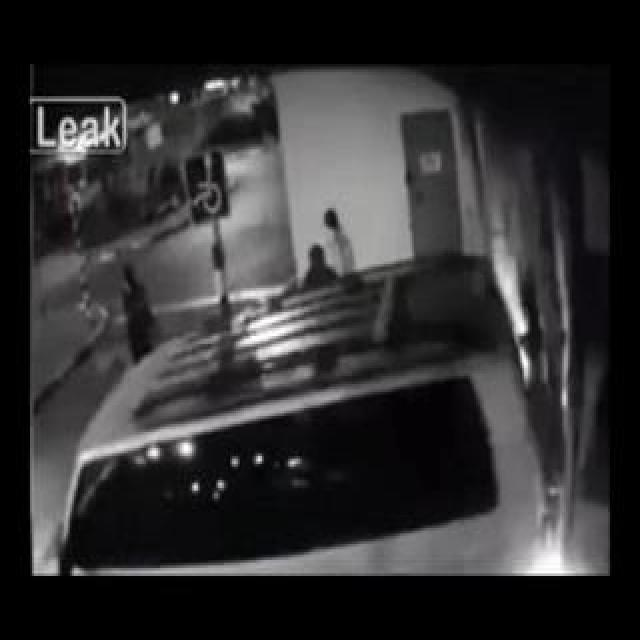burglary: (450, 212, 598, 519)
